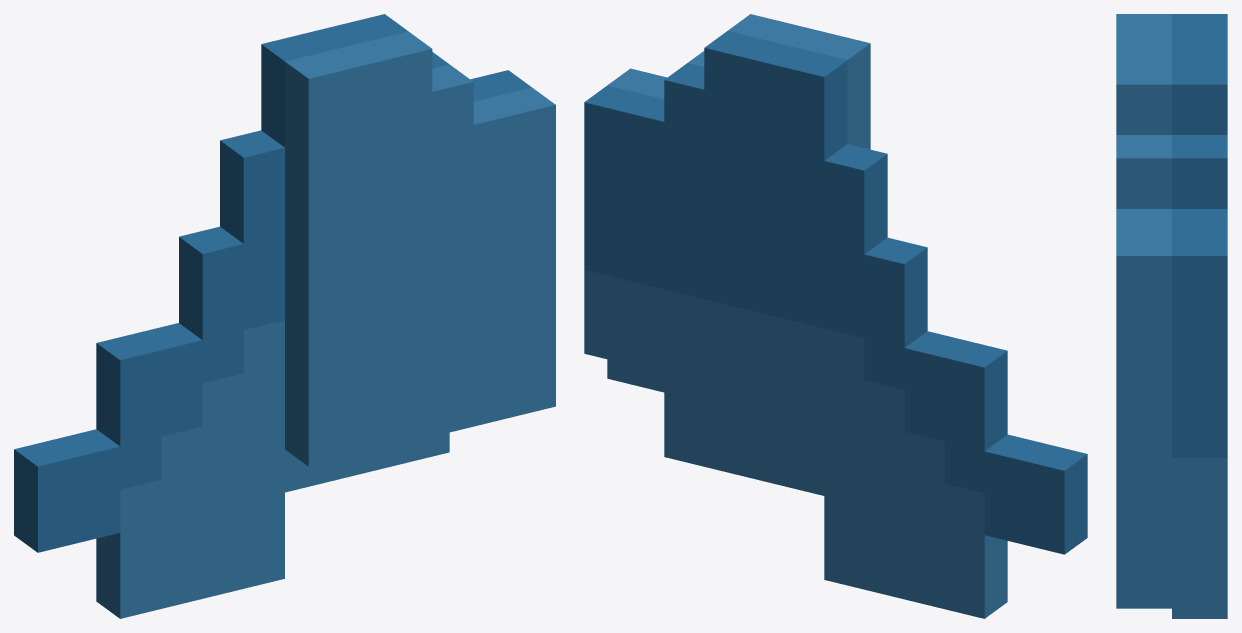
File: bird_1_left_wing.dae
3 renders of one model, left to right at view 1: azimuth 30°, elevation 25°; view 2: azimuth 150°, elevation 25°; view 3: azimuth 270°, elevation 25°, orthographic. The views are drawn at different scales.
Visible parts, largest first — view 1: PlaneCOL; view 2: PlaneCOL; view 3: PlaneCOL.
Boxes of the visible parts, x1,y1,x2,y2 form: PlaneCOL: [14, 14, 555, 618]; PlaneCOL: [584, 14, 1087, 618]; PlaneCOL: [1116, 14, 1227, 618].
Size of the model in its own units: 1.2 by 0.2 by 1.2.
